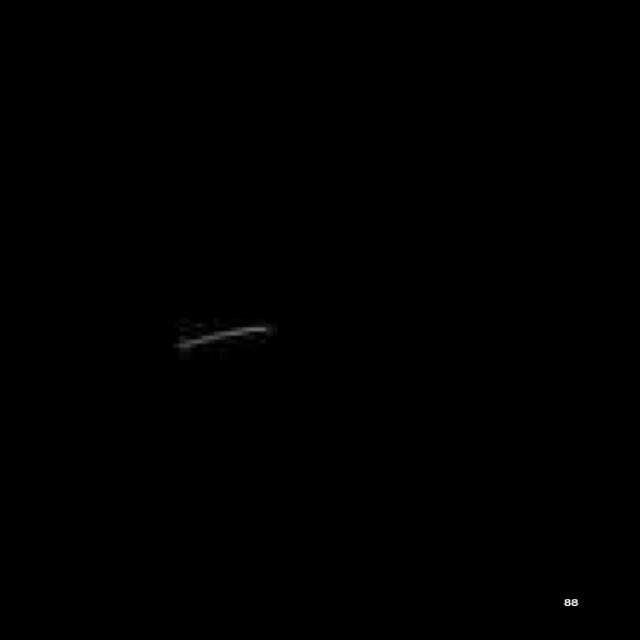1 -one-: (167, 317, 280, 368)
